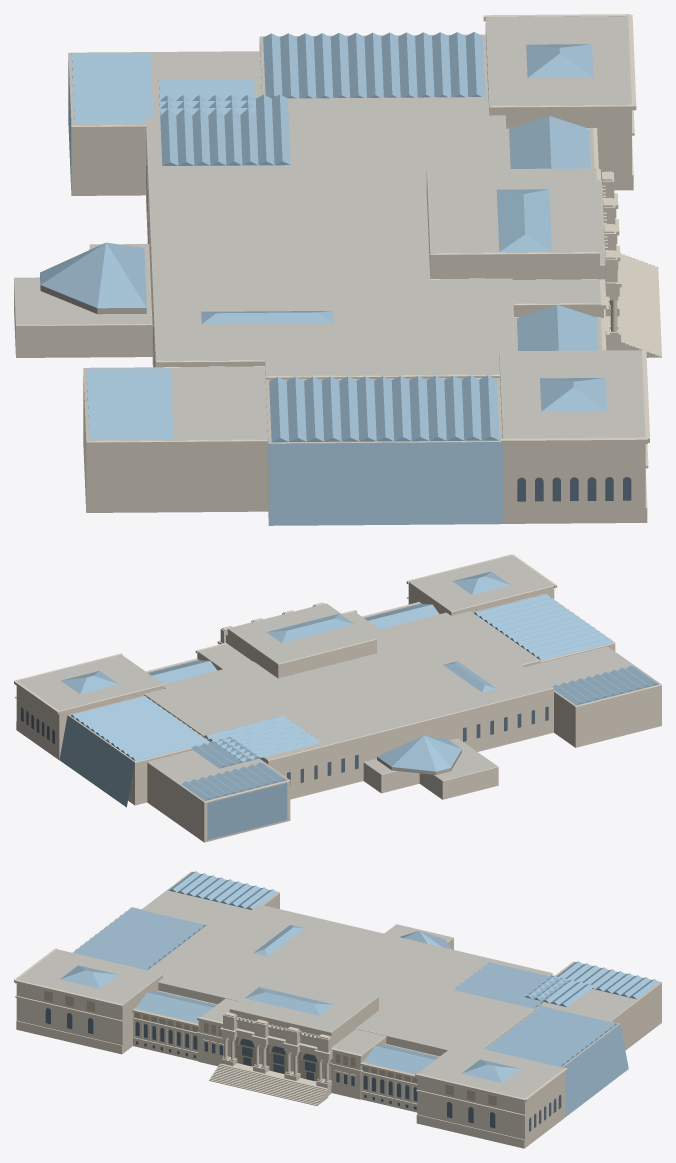
3 renders of one model, top to bottom at view 1: azimuth 30°, elevation 25°; view 2: azimuth 150°, elevation 25°; view 3: azimuth 270°, elevation 25°, orthographic. The views are drawn at different scales.
Visible parts, largest first — view 1: the-metropolitan-museum-of-art; view 2: the-metropolitan-museum-of-art; view 3: the-metropolitan-museum-of-art.
Boxes of the visible parts, x1,y1,x2,y2 form: the-metropolitan-museum-of-art: [14, 14, 661, 525]; the-metropolitan-museum-of-art: [14, 554, 661, 842]; the-metropolitan-museum-of-art: [14, 871, 661, 1148].
Size of the model in its own units: 292 by 36.7 by 338.
